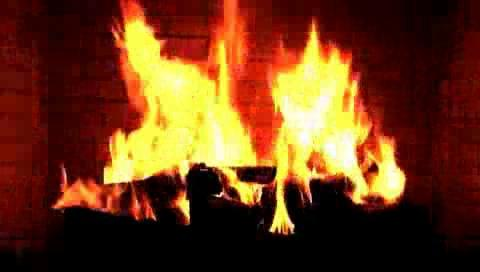fire: (39, 0, 467, 231)
